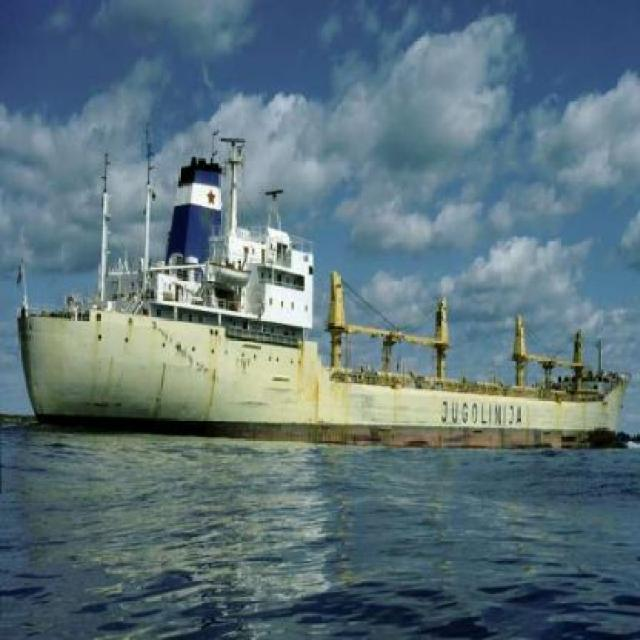ship: (0, 117, 638, 446)
